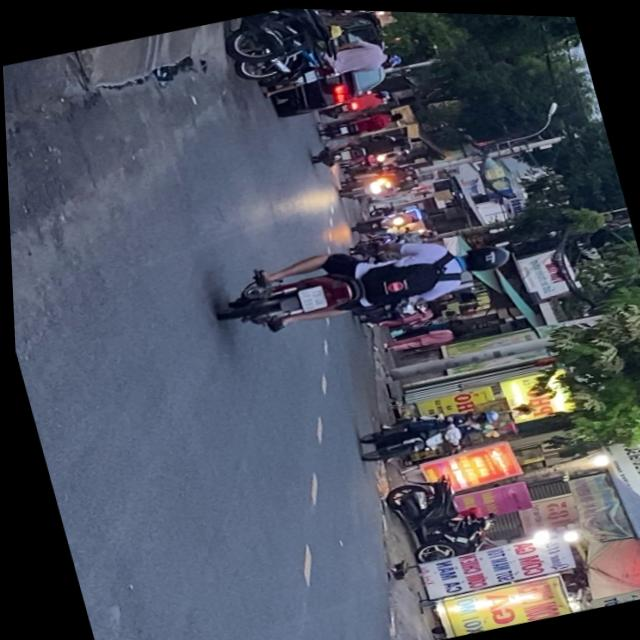helmet: (456, 237, 511, 275), (468, 404, 497, 424)
licenseplate: (203, 206, 520, 352), (347, 392, 505, 470)
nohelmet: (295, 284, 325, 310)
